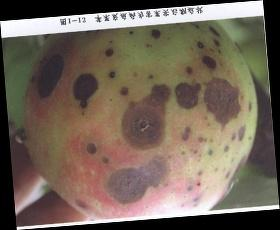rotten apple: (9, 30, 258, 209)
